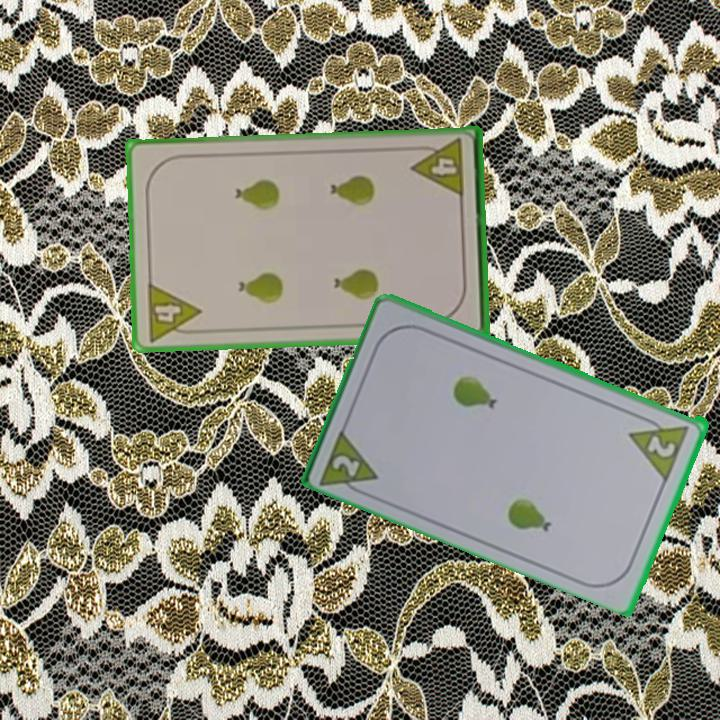2p: (317, 423, 382, 500), (626, 410, 693, 482)
4p: (143, 279, 204, 344), (408, 135, 467, 201)
